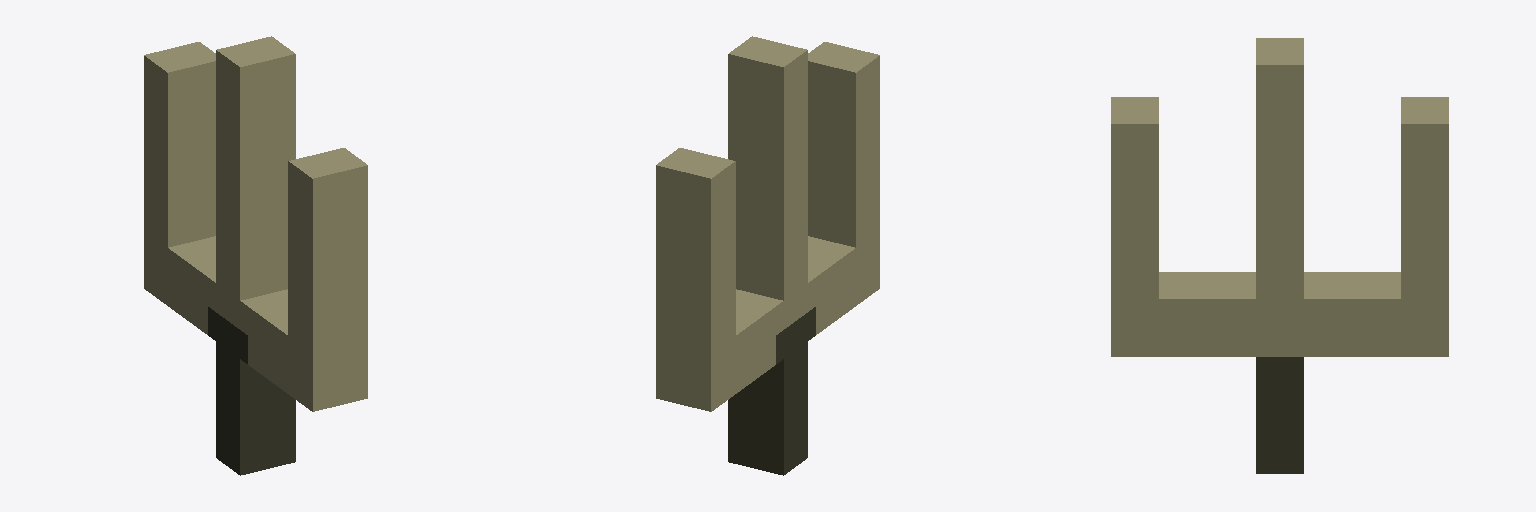
3 renders of one model, left to right at view 1: azimuth 30°, elevation 25°; view 2: azimuth 150°, elevation 25°; view 3: azimuth 270°, elevation 25°, orthographic.
Bounding box in the file's own units: 4 × 28 × 21.
Materials: 1 (1 with a texture image).